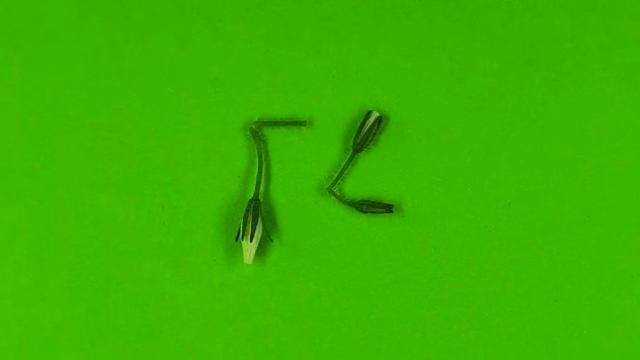Flower Bud: (234, 196, 271, 266), (352, 110, 384, 153), (349, 199, 395, 214)
